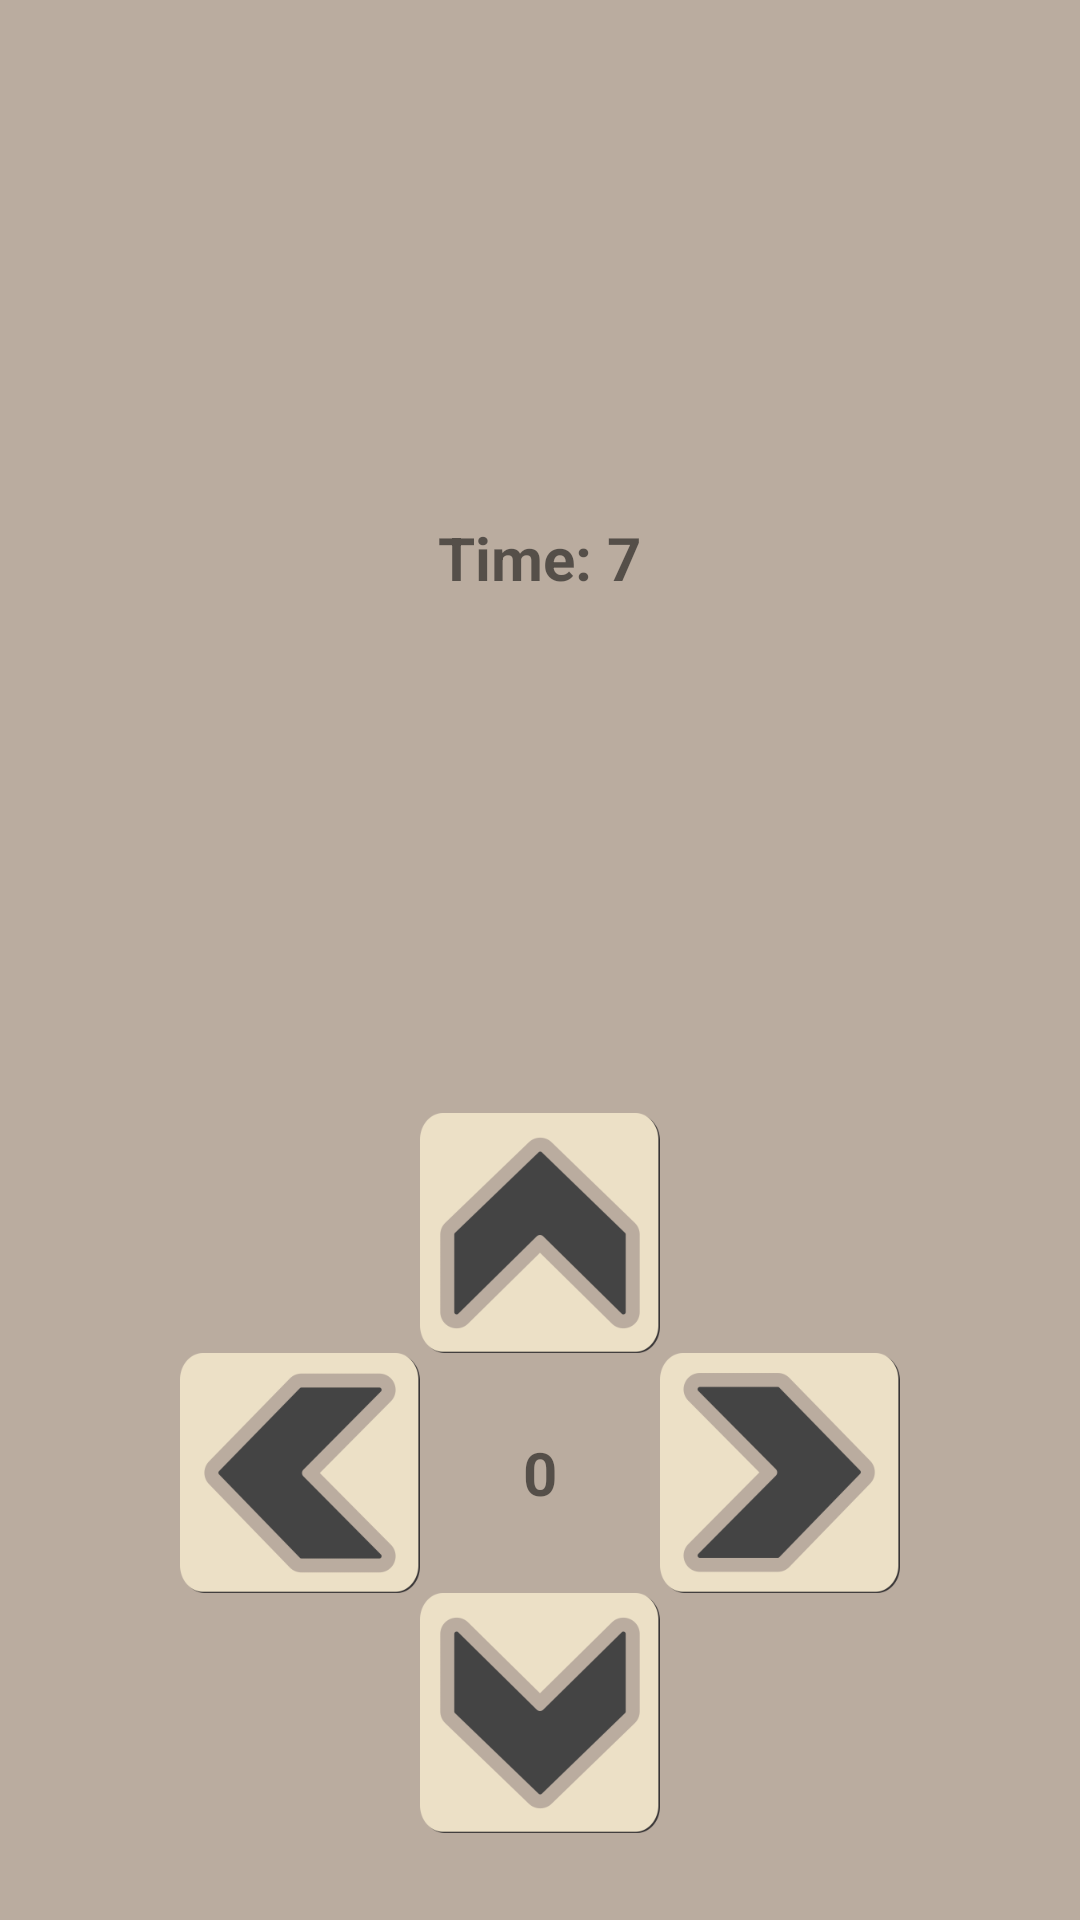

Where to tap for icons on this 1080px×1920px app screen, as (x,y):
down: (540,1713)
left: (300,1473)
right: (780,1473)
